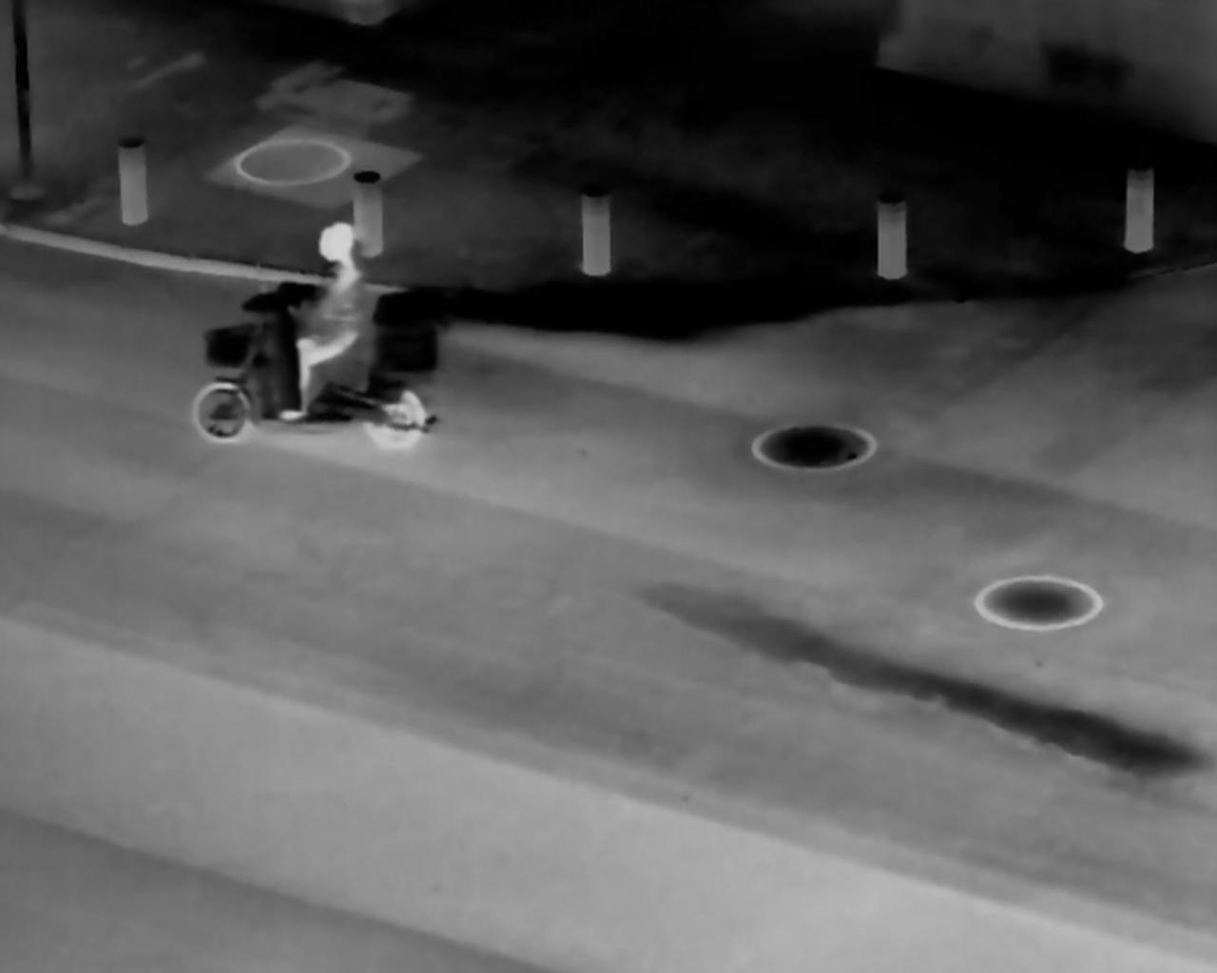person: (266, 206, 371, 424)
